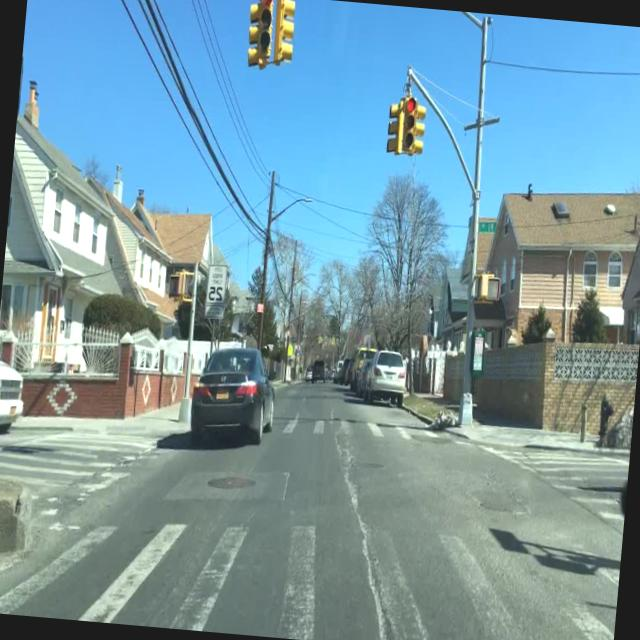Vehicle: (182, 331, 294, 462), (364, 344, 412, 406), (308, 353, 326, 385)
